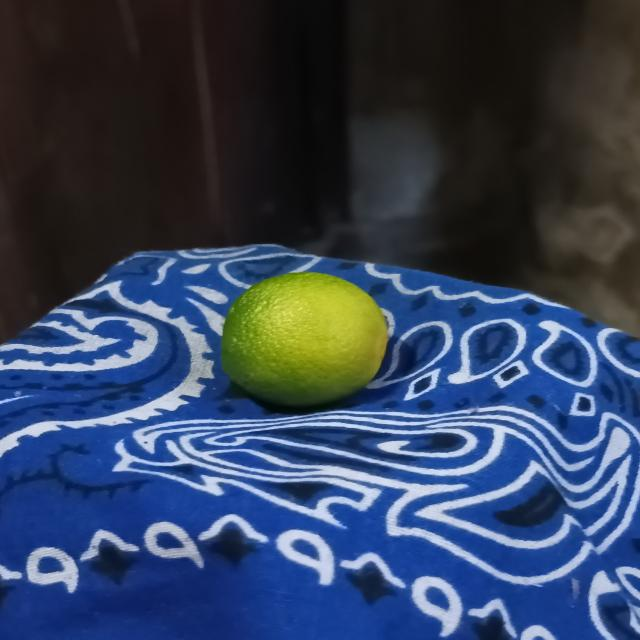greening: (216, 264, 398, 406)
